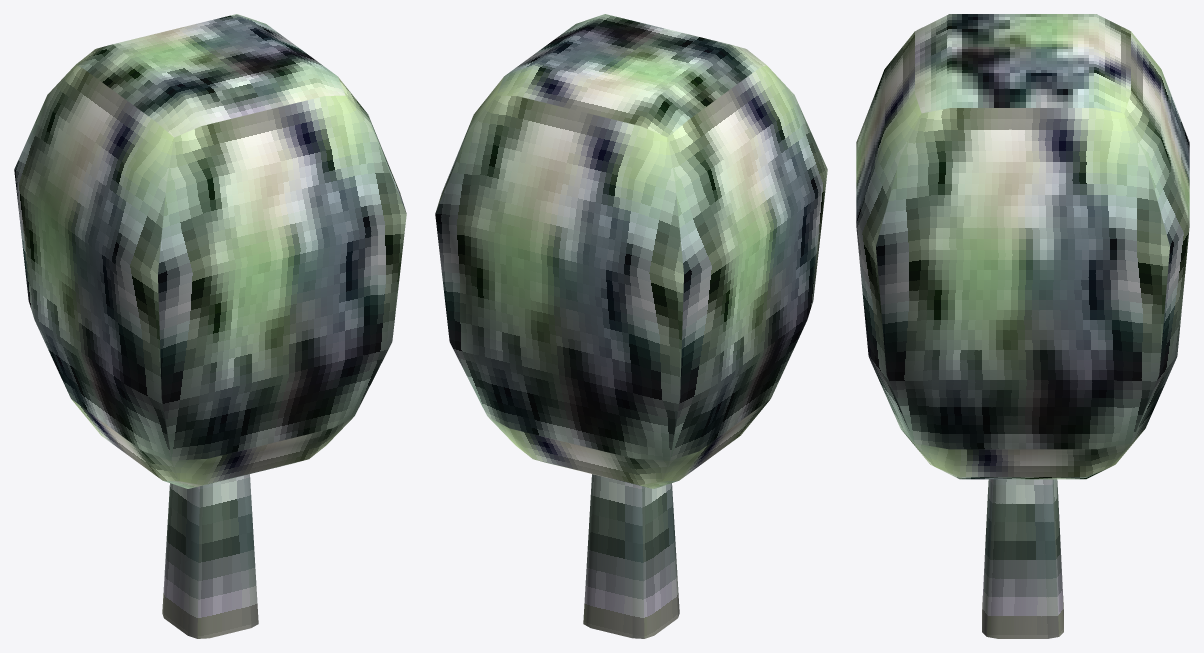
File: Pkm_tree01.fbx
The picture shows the model from 3 angles, left to right: view 1: azimuth 30°, elevation 25°; view 2: azimuth 150°, elevation 25°; view 3: azimuth 270°, elevation 25°; orthographic projection. The views are drawn at different scales.
Parts seen in each view (by area): view 1: polySurface195; view 2: polySurface195; view 3: polySurface195.
Part boxes in pixels (box(x1,y1,x2,y2)): polySurface195: box(14, 14, 406, 638); polySurface195: box(435, 14, 827, 638); polySurface195: box(856, 14, 1189, 638).
Size of the model in its own units: 2.51 by 4.8 by 2.51.
